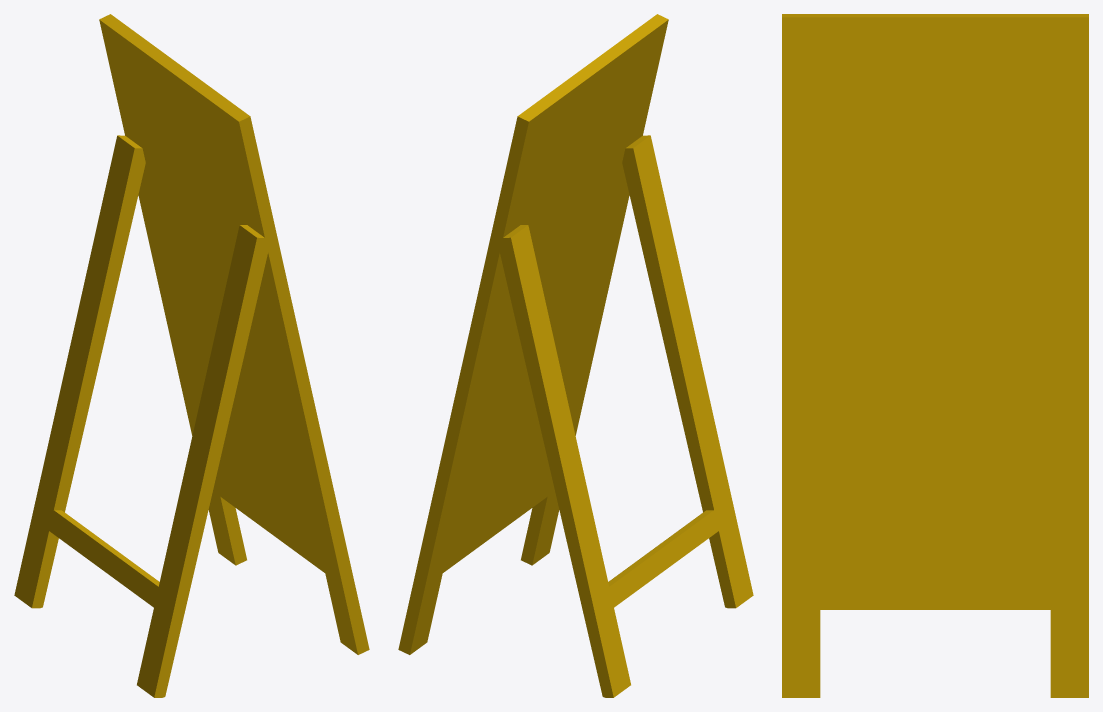
Rendered from board.fbx.
3 renders of one model, left to right at view 1: azimuth 30°, elevation 25°; view 2: azimuth 150°, elevation 25°; view 3: azimuth 270°, elevation 25°, orthographic. The views are drawn at different scales.
Visible parts, largest first — view 1: Cube; view 2: Cube; view 3: Cube.
Boxes of the visible parts, x1,y1,x2,y2 form: Cube: (14, 14, 369, 697); Cube: (398, 14, 753, 697); Cube: (782, 14, 1088, 697).
Bounding box in the file's own units: 178 × 446 × 200.
